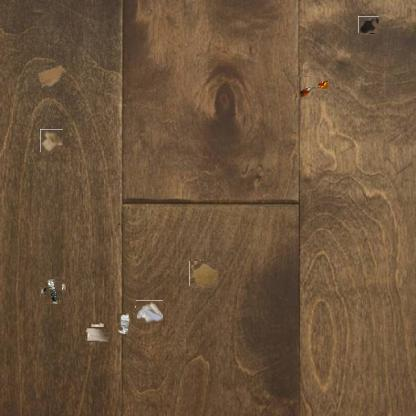dirty: (36, 63, 68, 89), (296, 76, 328, 100), (135, 300, 163, 323), (40, 129, 63, 152), (43, 279, 65, 301), (87, 324, 107, 344), (117, 313, 131, 335)
liquid: (190, 260, 218, 287), (359, 15, 378, 34)
